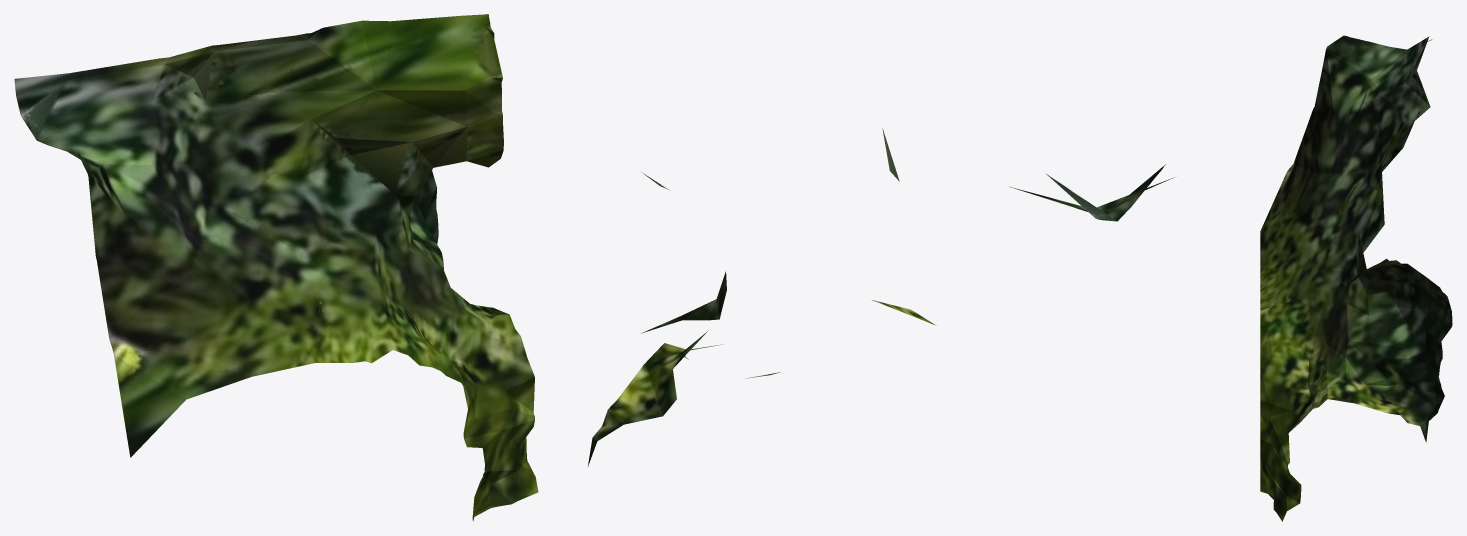
3 renders of one model, left to right at view 1: azimuth 30°, elevation 25°; view 2: azimuth 150°, elevation 25°; view 3: azimuth 270°, elevation 25°, orthographic. The views are drawn at different scales.
Bounding box in the file's own units: 1.67 × 1.67 × 0.8414.
3 materials, 3 textured.
